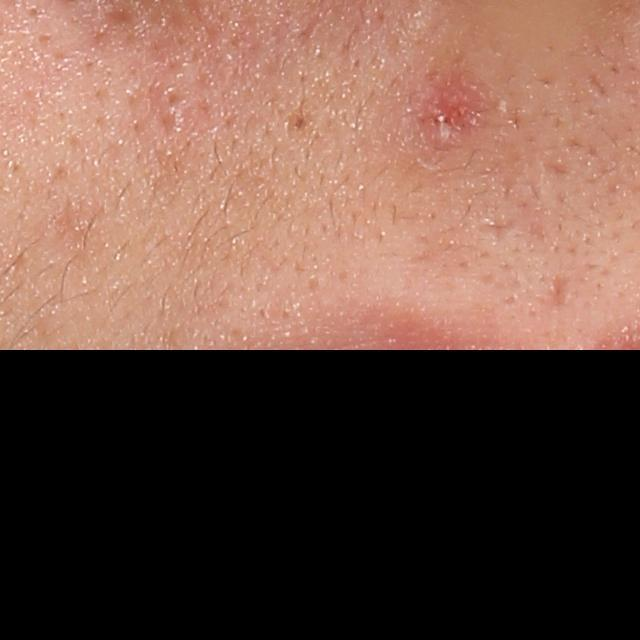atrophic_scar: (476, 212, 518, 247), (545, 268, 576, 315), (585, 68, 609, 100), (542, 157, 574, 177)
